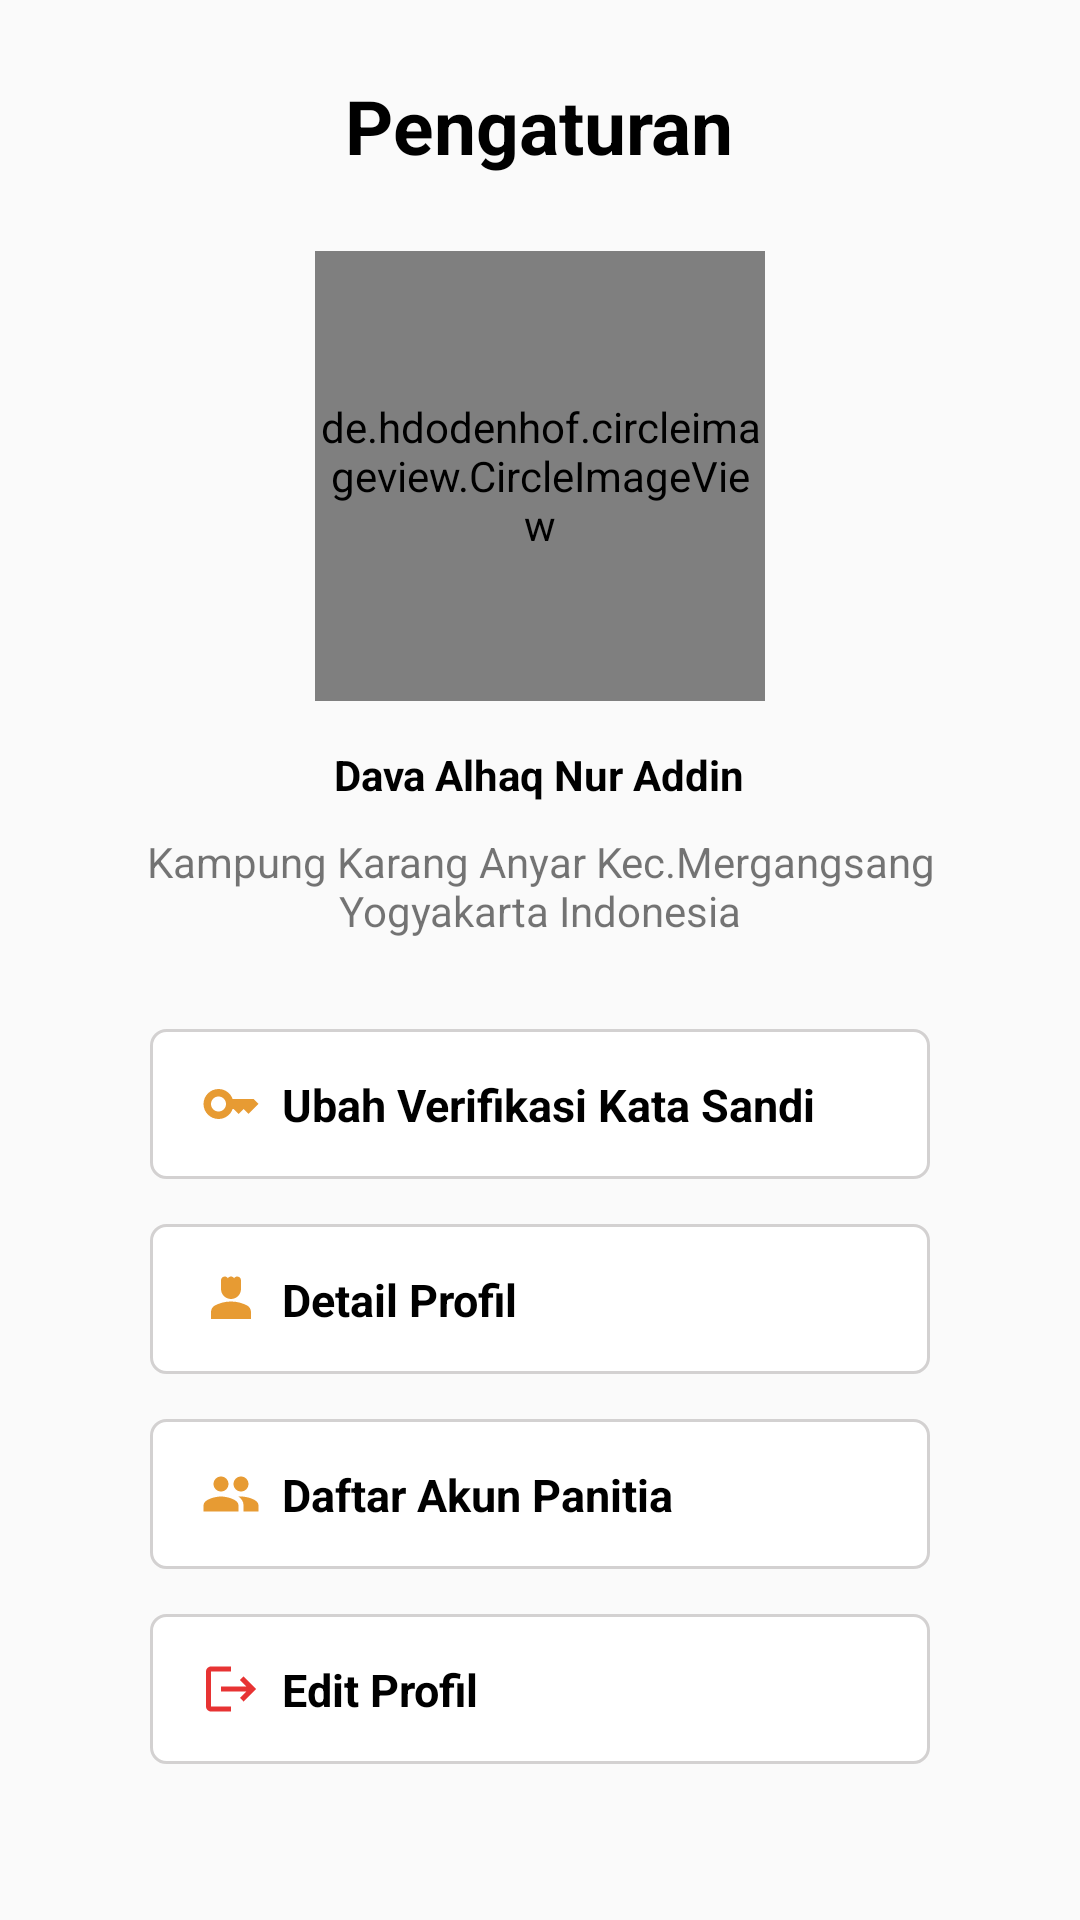

Screen size 1080 x 1920. Icon name, then its center in pixels as point (x, y):
key: point (231, 1104)
people: point (231, 1494)
person: point (231, 1297)
